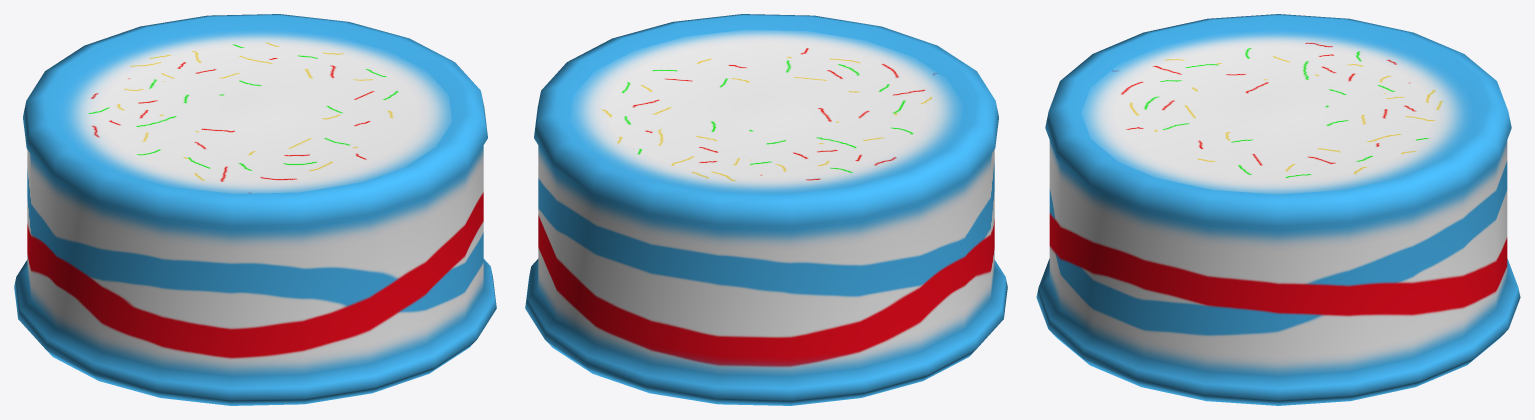
Rendered from cake.fbx.
3 views of the same model, side by side, from view 1: azimuth 30°, elevation 25°; view 2: azimuth 150°, elevation 25°; view 3: azimuth 270°, elevation 25° (orthographic).
Visible parts, largest first — view 1: cake; view 2: cake; view 3: cake.
Part boxes in pixels (x1,y1,x2,y2): cake: (14,14,496,405); cake: (525,14,1007,405); cake: (1036,14,1520,405).
Bounding box in the file's own units: 2.12 × 0.9756 × 2.12.
